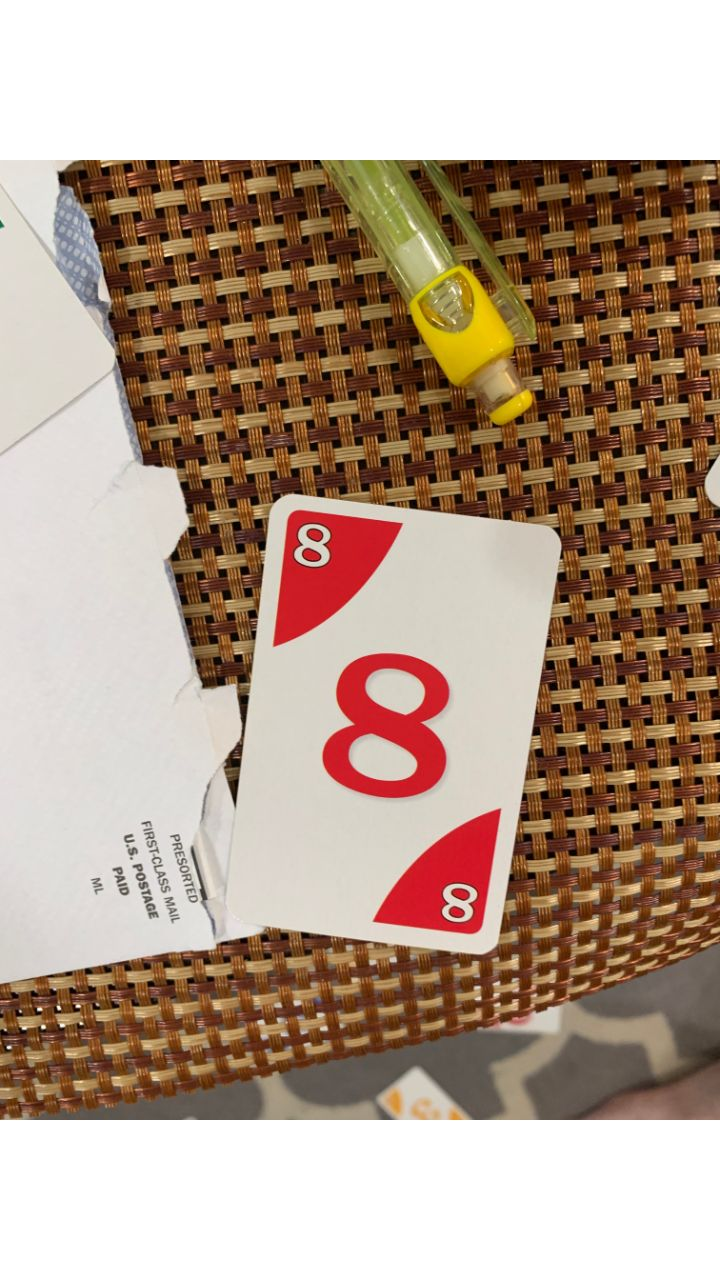eight: (223, 489, 568, 959)
